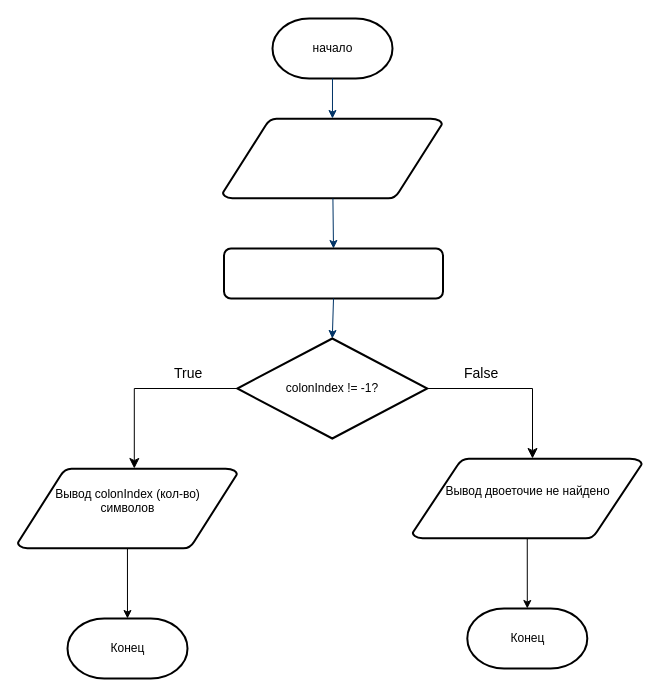
This 661x696 diagram has some shape labels left out. Here are the shapes that lost their labels. From the top down, the box of each, then its label:
(221, 117, 443, 199): Ввод строки str
(222, 247, 444, 299): colonIndex = str.index0f(':')
